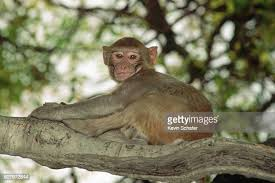monkey: (69, 34, 236, 159)
